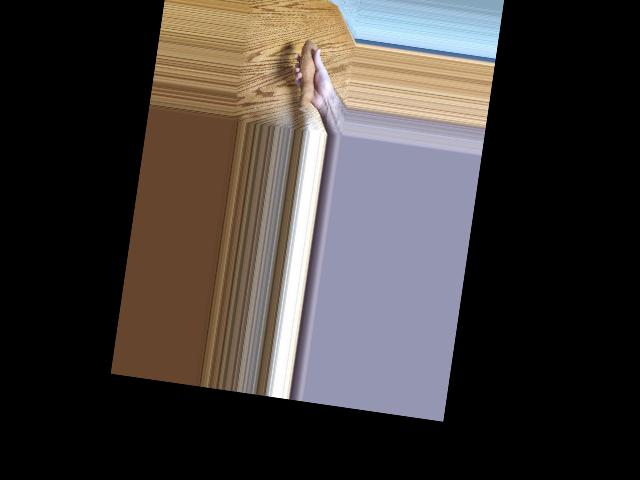sweet_potato: (290, 32, 329, 116)
